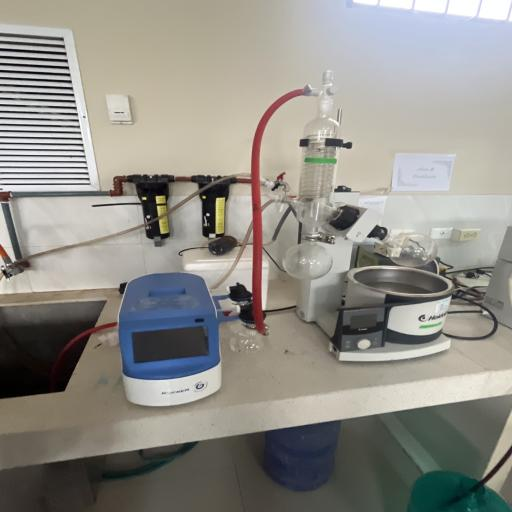Sistema_Rotaevaporacion: (95, 62, 463, 409)
